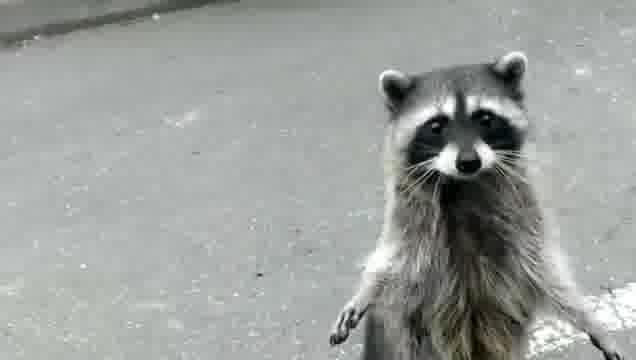raccoon: (330, 51, 626, 360)
